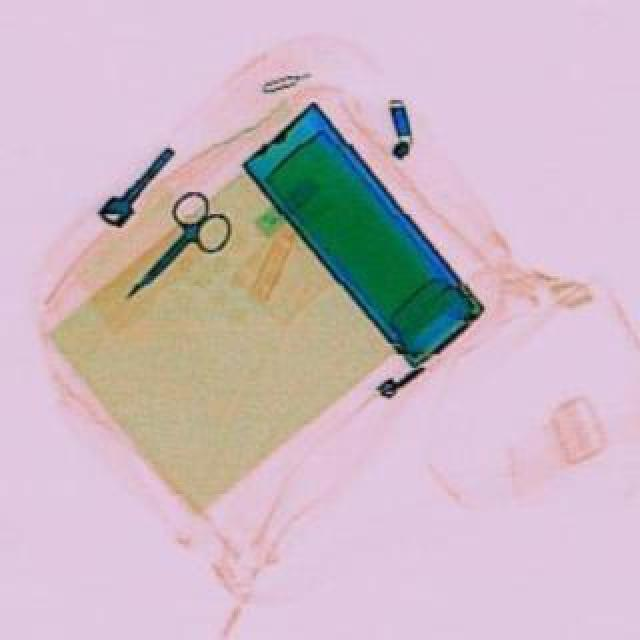pliers: (106, 182, 248, 314)
